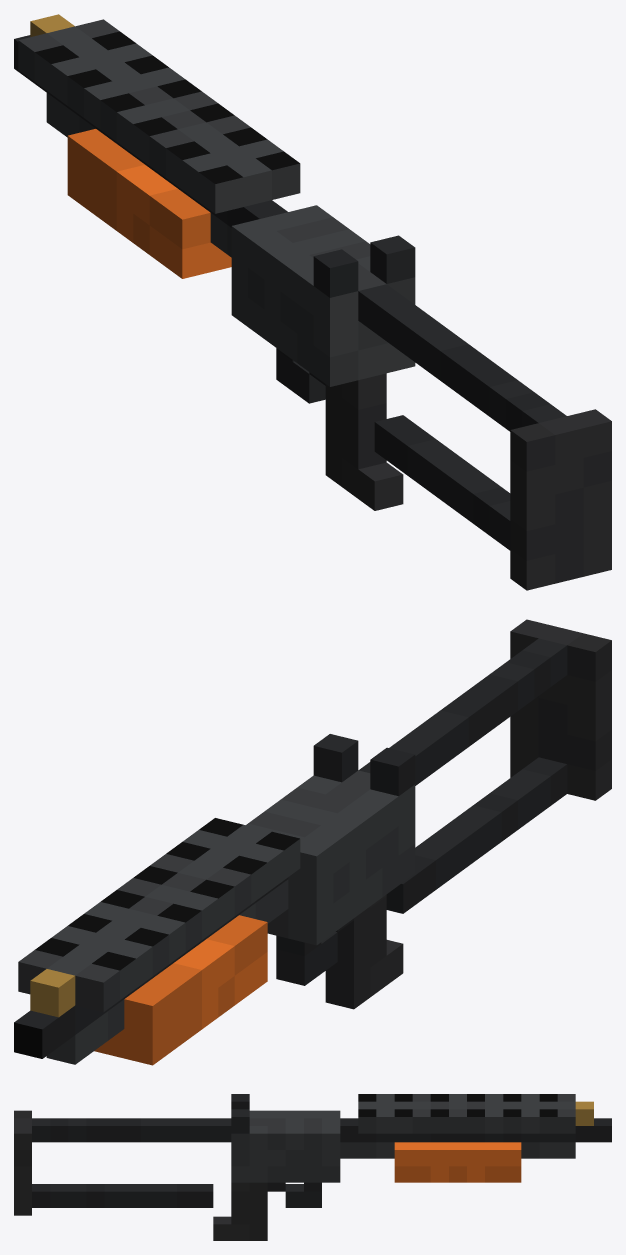
File: spas12.glb
The picture shows the model from 3 angles, top to bottom: view 1: azimuth 30°, elevation 25°; view 2: azimuth 150°, elevation 25°; view 3: azimuth 270°, elevation 25°; orthographic projection. The views are drawn at different scales.
Parts seen in each view (by area): view 1: wpn__spas12__body, wpn__spas12__pump; view 2: wpn__spas12__body, wpn__spas12__pump; view 3: wpn__spas12__body, wpn__spas12__pump.
Part boxes in pixels (x1,y1,x2,y2): wpn__spas12__body: [14, 14, 611, 590]; wpn__spas12__pump: [67, 129, 231, 278]; wpn__spas12__body: [14, 619, 611, 1064]; wpn__spas12__pump: [94, 915, 267, 1065]; wpn__spas12__body: [14, 1094, 611, 1240]; wpn__spas12__pump: [394, 1142, 521, 1182].
Size of the model in its own units: 0.075 by 0.2 by 0.825.
